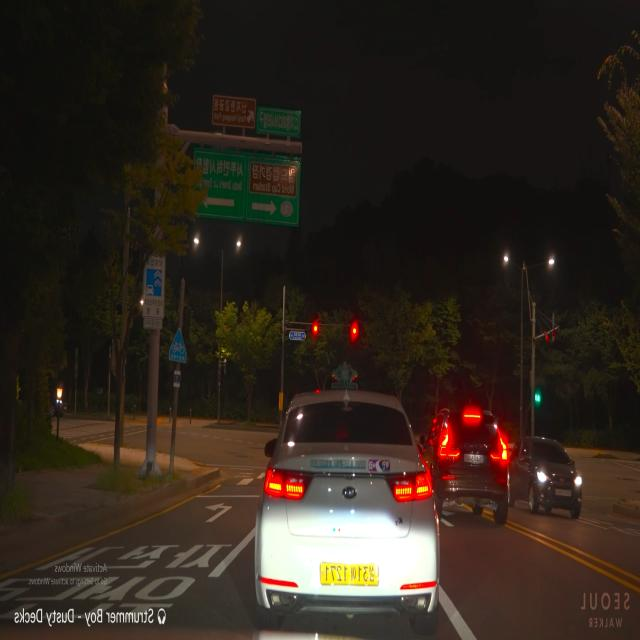headlights: (533, 466, 585, 499)
